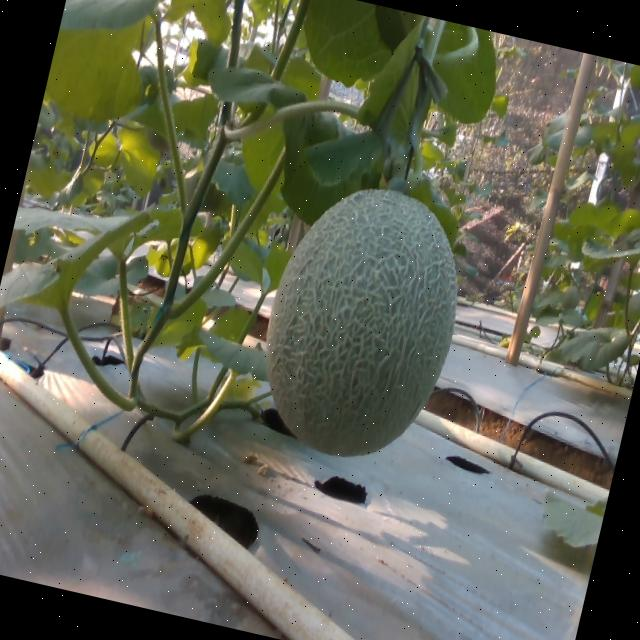melon: (267, 190, 457, 455)
